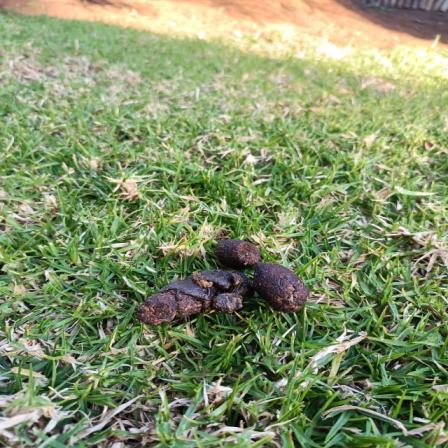dog-poop: (127, 223, 320, 333)
